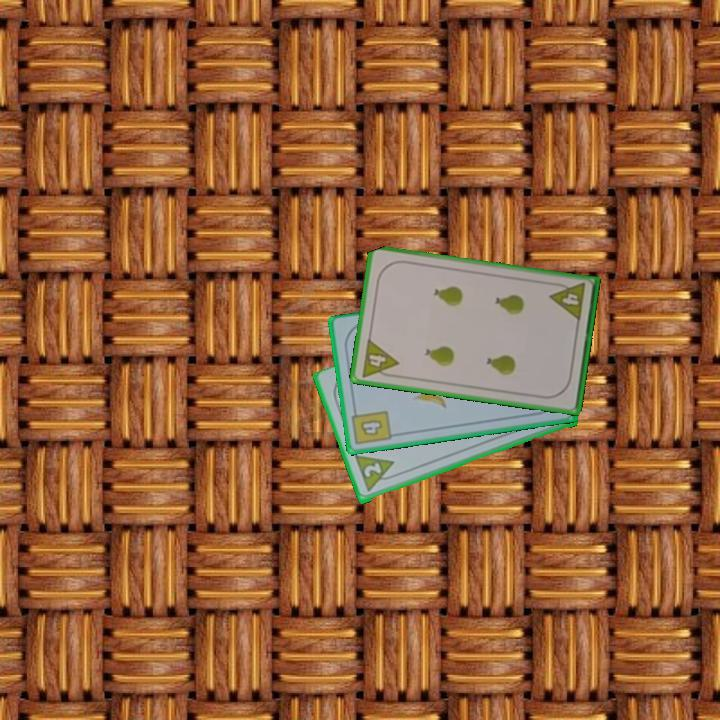2p: (360, 459, 384, 481)
4b: (349, 404, 394, 448)
4p: (358, 335, 401, 381), (547, 279, 588, 324)
